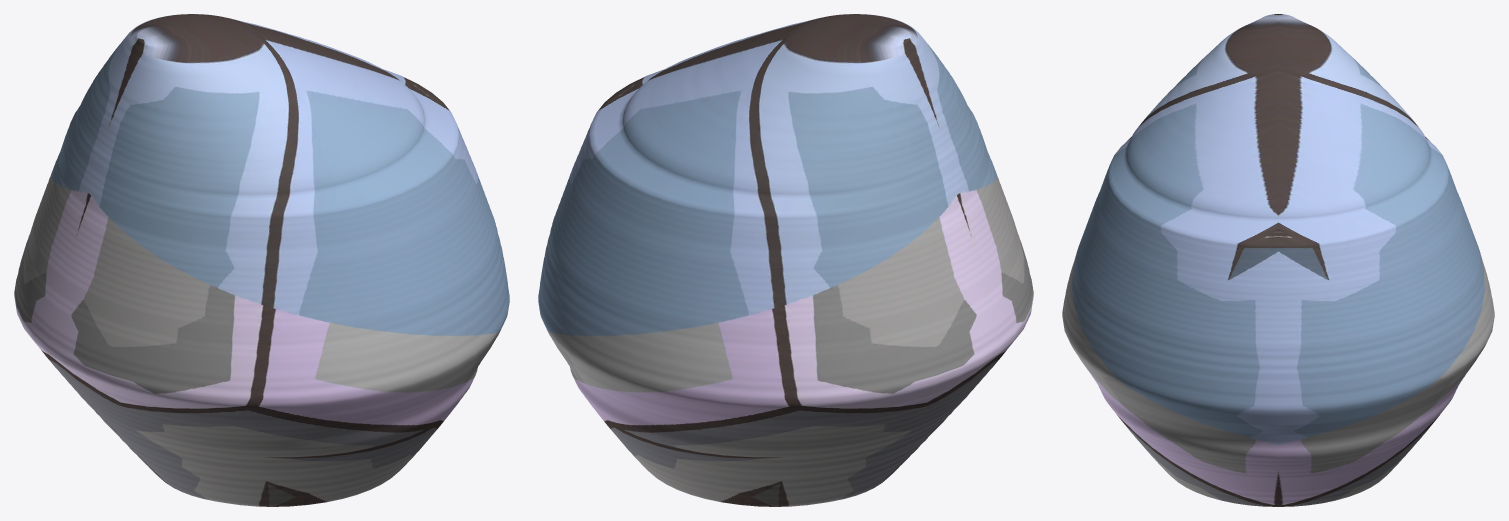
Rendered from lavender_boulder.glb.
3 renders of one model, left to right at view 1: azimuth 30°, elevation 25°; view 2: azimuth 150°, elevation 25°; view 3: azimuth 270°, elevation 25°, orthographic. The views are drawn at different scales.
Parts seen in each view (by area): view 1: lavender_boulder; view 2: lavender_boulder; view 3: lavender_boulder.
Part boxes in pixels (left/top/right/bottom): lavender_boulder: left=14, top=14, right=509, bottom=506; lavender_boulder: left=538, top=14, right=1033, bottom=506; lavender_boulder: left=1062, top=14, right=1494, bottom=506.
Size of the model in its own units: 0.996 by 1.02 by 0.9954.
Materials: 1 (1 with a texture image).
